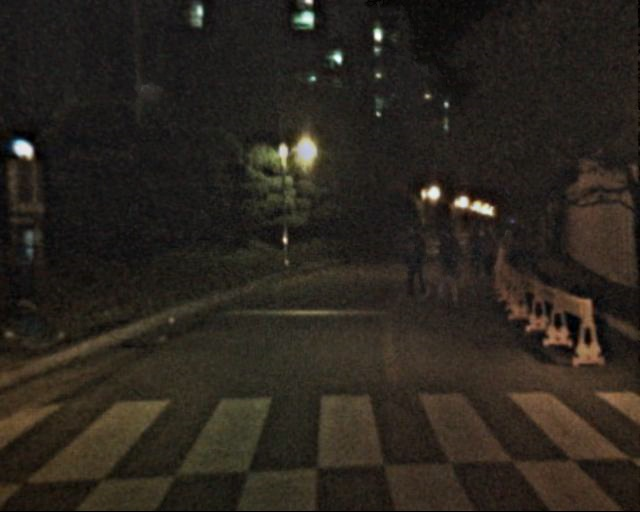person: (395, 224, 431, 311), (430, 225, 464, 308), (462, 228, 485, 284), (476, 232, 499, 287)
